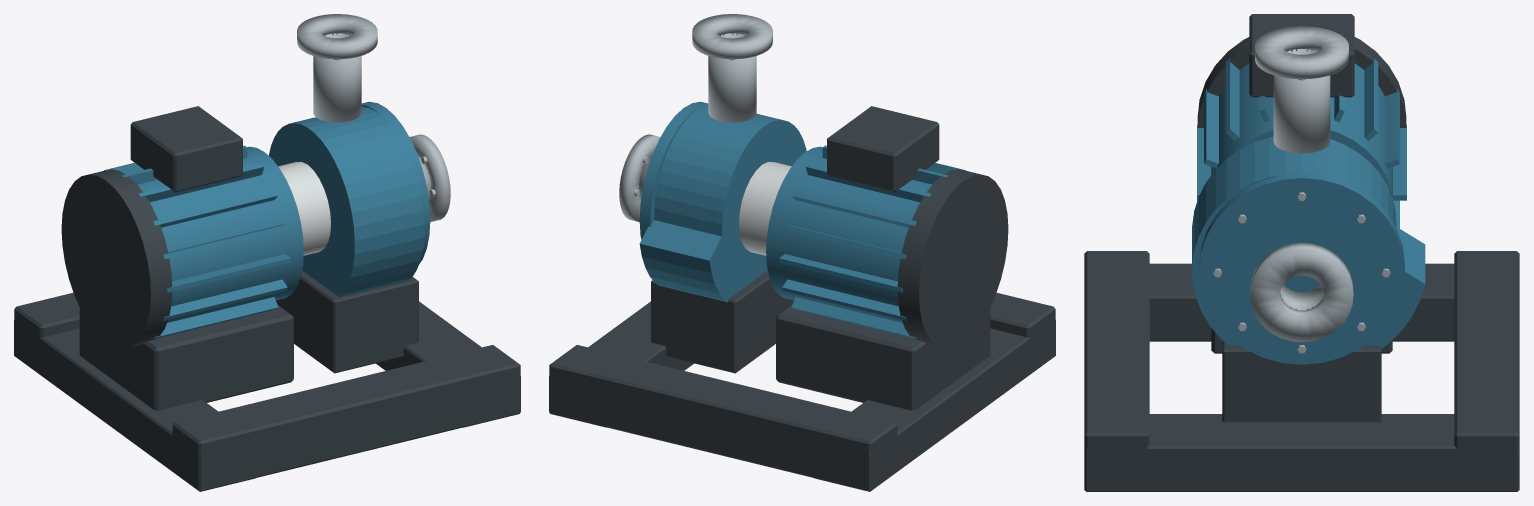
Rendered from SM_Plant_Pump.glb.
The picture shows the model from 3 angles, left to right: view 1: azimuth 30°, elevation 25°; view 2: azimuth 150°, elevation 25°; view 3: azimuth 270°, elevation 25°; orthographic projection. The views are drawn at different scales.
Parts seen in each view (by area): view 1: SM_Plant_Pump; view 2: SM_Plant_Pump; view 3: SM_Plant_Pump.
Part boxes in pixels (x1,y1,x2,y2): SM_Plant_Pump: (14,14,520,491); SM_Plant_Pump: (549,14,1055,491); SM_Plant_Pump: (1084,14,1519,491).
Bounding box in the file's own units: 0.6 × 0.6 × 0.6.
